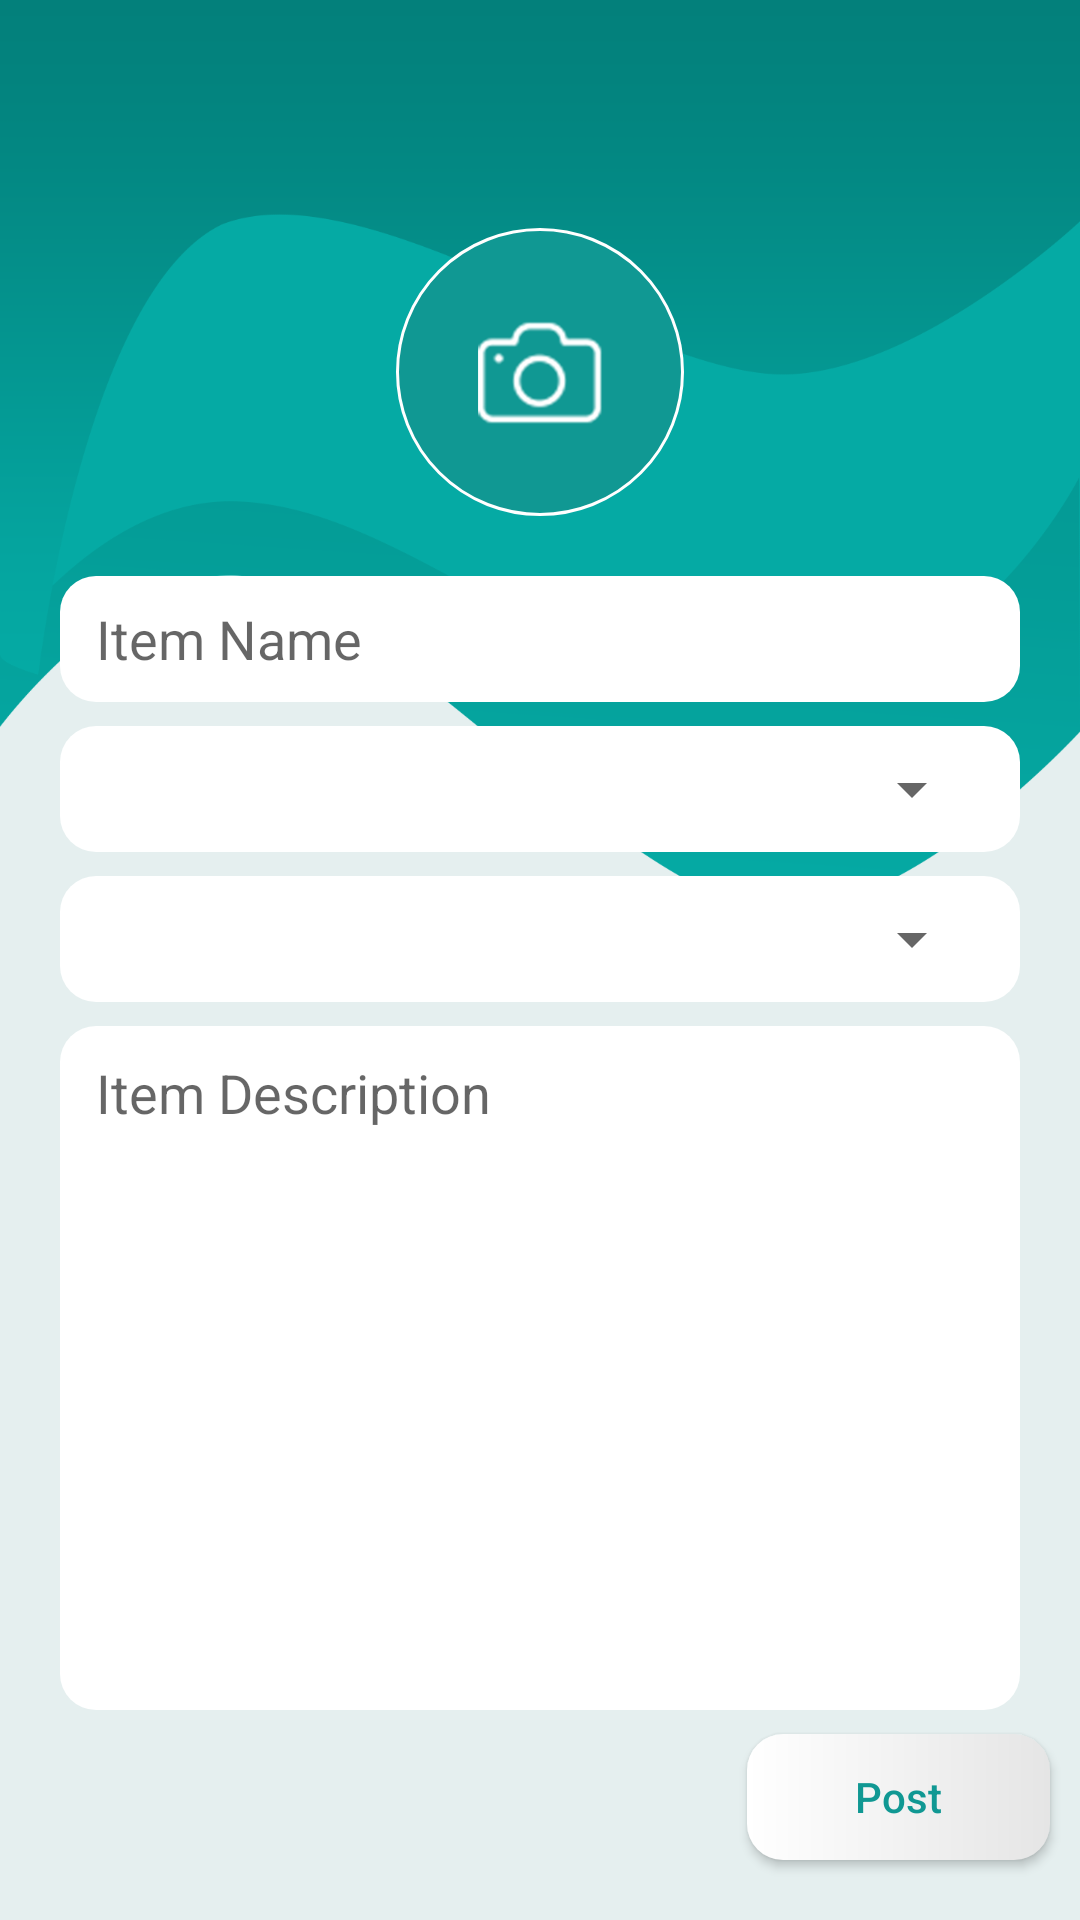

Icon click points for this 1080×1920 phone screenshot, format (x=x, y=y):
but profile photo: (x=540, y=372)
